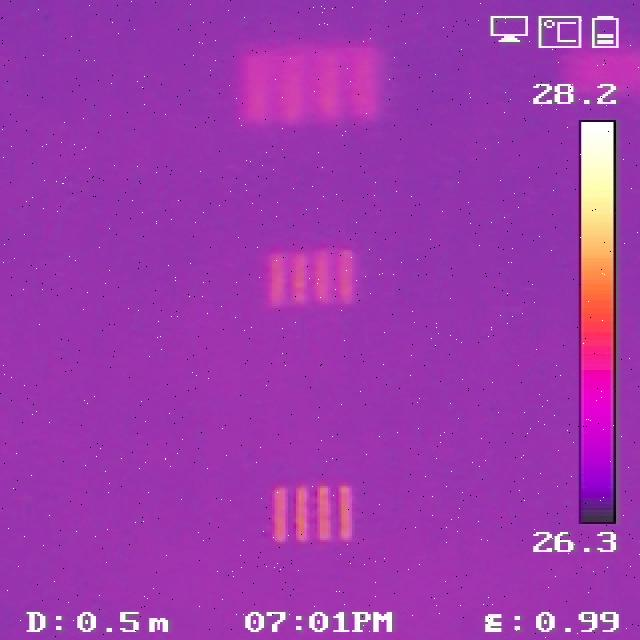Distinguishable 4-bar target: (263, 245, 360, 303), (271, 482, 357, 542)
Indistinguishable 4-bar target: (567, 53, 636, 92)
threshold 4-bar target: (237, 42, 384, 123)
